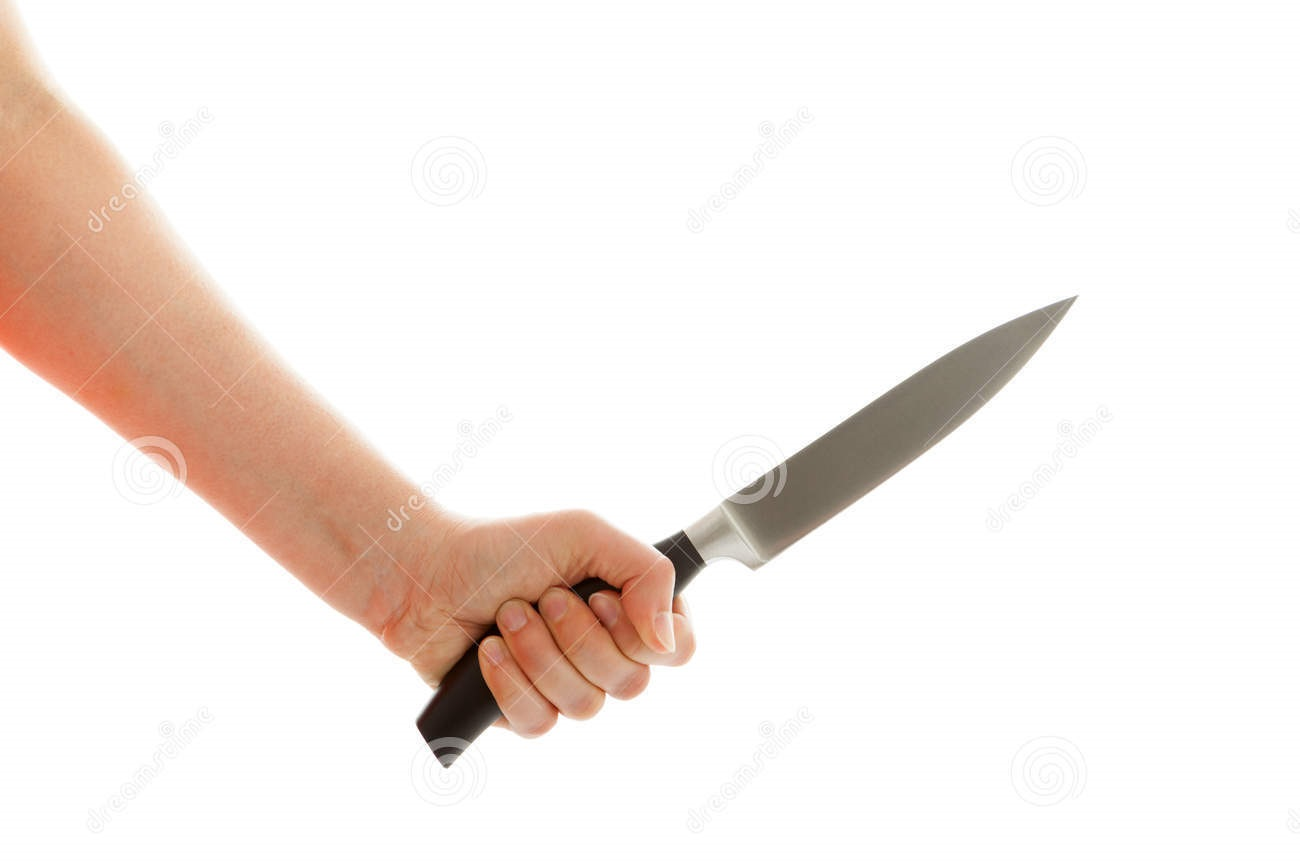knife: (513, 285, 1097, 700)
